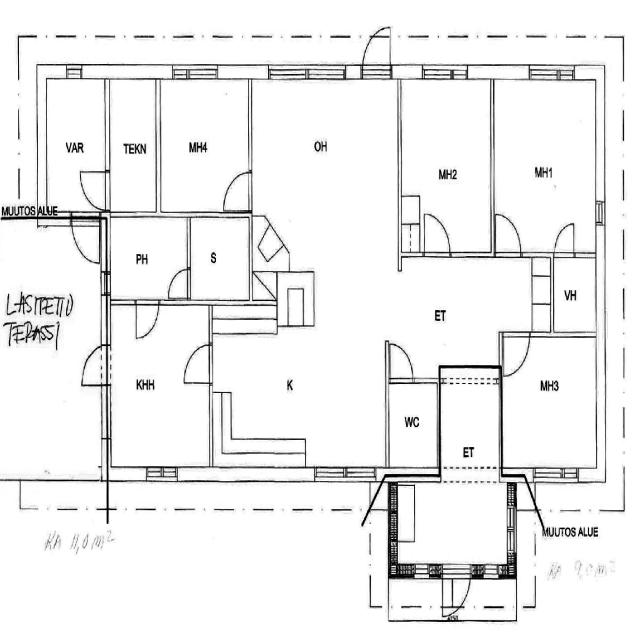door: (74, 168, 106, 264), (70, 213, 102, 267), (360, 27, 393, 79), (181, 339, 214, 388), (493, 208, 524, 259), (220, 168, 253, 214), (77, 168, 110, 213), (422, 209, 452, 258), (502, 330, 531, 378), (386, 339, 416, 385), (79, 343, 110, 386), (444, 570, 472, 616), (133, 298, 161, 342), (551, 219, 579, 260), (164, 264, 192, 301)
window: (272, 65, 350, 85), (531, 463, 576, 488), (529, 62, 575, 85), (420, 62, 466, 84), (97, 284, 112, 350), (143, 464, 179, 486), (186, 63, 219, 84), (592, 197, 608, 231), (411, 562, 432, 582), (619, 196, 629, 236), (618, 136, 628, 175), (480, 563, 500, 581), (620, 313, 629, 353), (620, 255, 629, 294), (619, 77, 628, 116), (14, 75, 23, 113), (66, 62, 83, 81), (620, 434, 628, 470)
zone: (212, 328, 379, 457), (491, 76, 599, 253), (107, 302, 211, 478), (398, 74, 494, 249), (502, 334, 598, 476), (157, 77, 250, 215), (435, 368, 502, 516), (42, 70, 108, 214), (105, 216, 190, 301), (107, 76, 157, 216), (188, 216, 252, 304), (531, 256, 598, 337), (386, 380, 440, 476)
